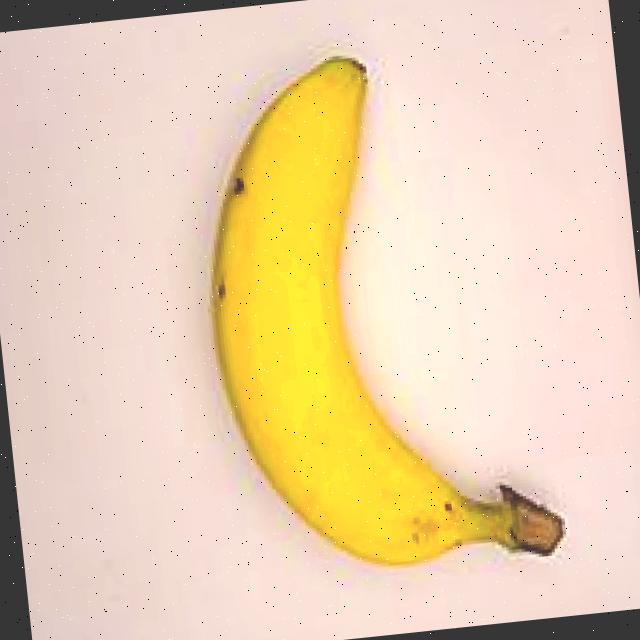Ripe: (129, 4, 603, 620)
